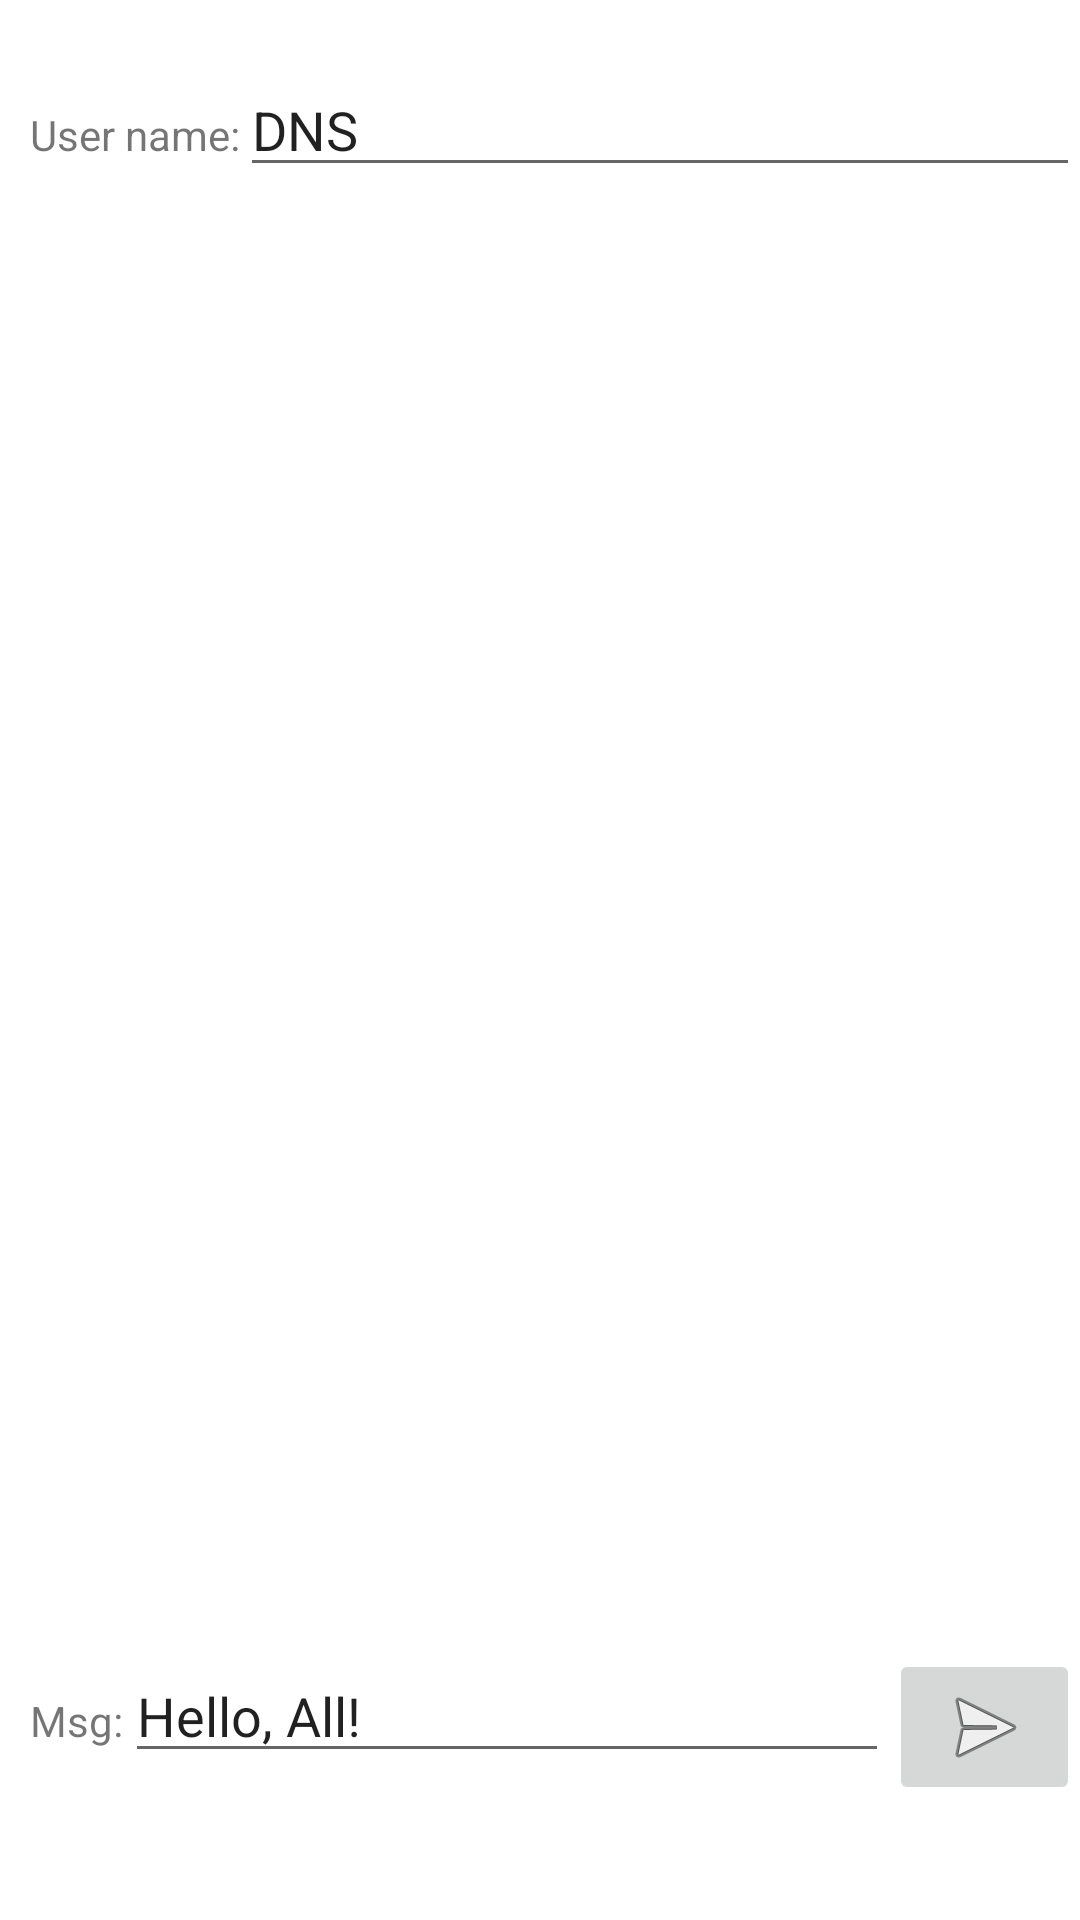

Icons on this 1080 × 1920 Android screen, each with its box as [x1, y1, x2, y2]:
send: [901, 1667, 1068, 1787]
